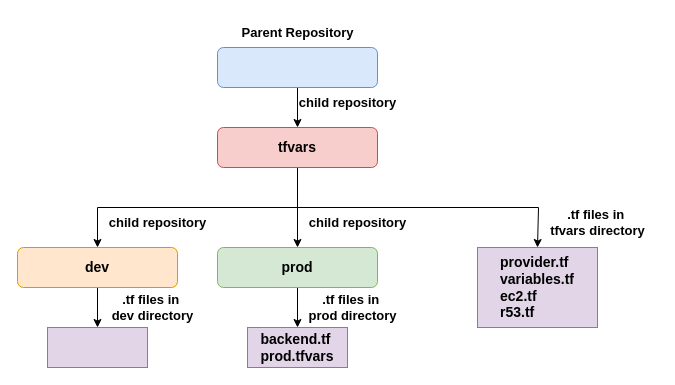
Image size: 675x385. Some labels were removed from this diagram. The shapes that lost their labels are listed below. From the top down, each one's box as (x1, y1, x2, y2) in pixels, then its label:
(216, 46, 378, 88): terraform-multi-env
(46, 326, 148, 368): backend.tf dev.tfvars
